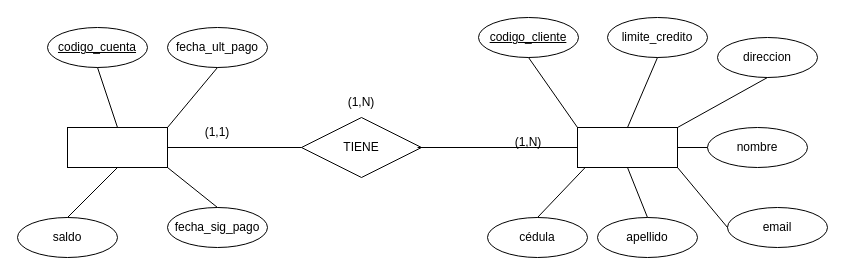
Image size: 845x275. Some labels were removed from this diagram. Each missing label, with the box of its shape:
CLIENTE: (576, 126, 678, 168)
CUENTA: (66, 126, 168, 168)
